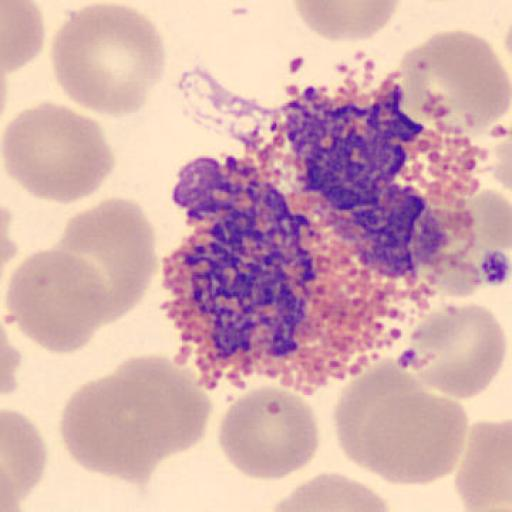RBC: (333, 358, 469, 488), (49, 0, 169, 118), (51, 196, 158, 324), (58, 374, 172, 484), (332, 358, 435, 477), (350, 385, 468, 487), (2, 100, 116, 205), (398, 27, 512, 132), (5, 247, 112, 355), (108, 352, 213, 456), (405, 301, 508, 400), (216, 385, 322, 481), (453, 417, 512, 511), (264, 471, 392, 512), (290, 0, 403, 44), (2, 407, 48, 511), (2, 0, 46, 76), (0, 313, 21, 399), (2, 330, 24, 398), (0, 198, 21, 268), (493, 127, 512, 196)
WBC: (159, 201, 437, 394)
